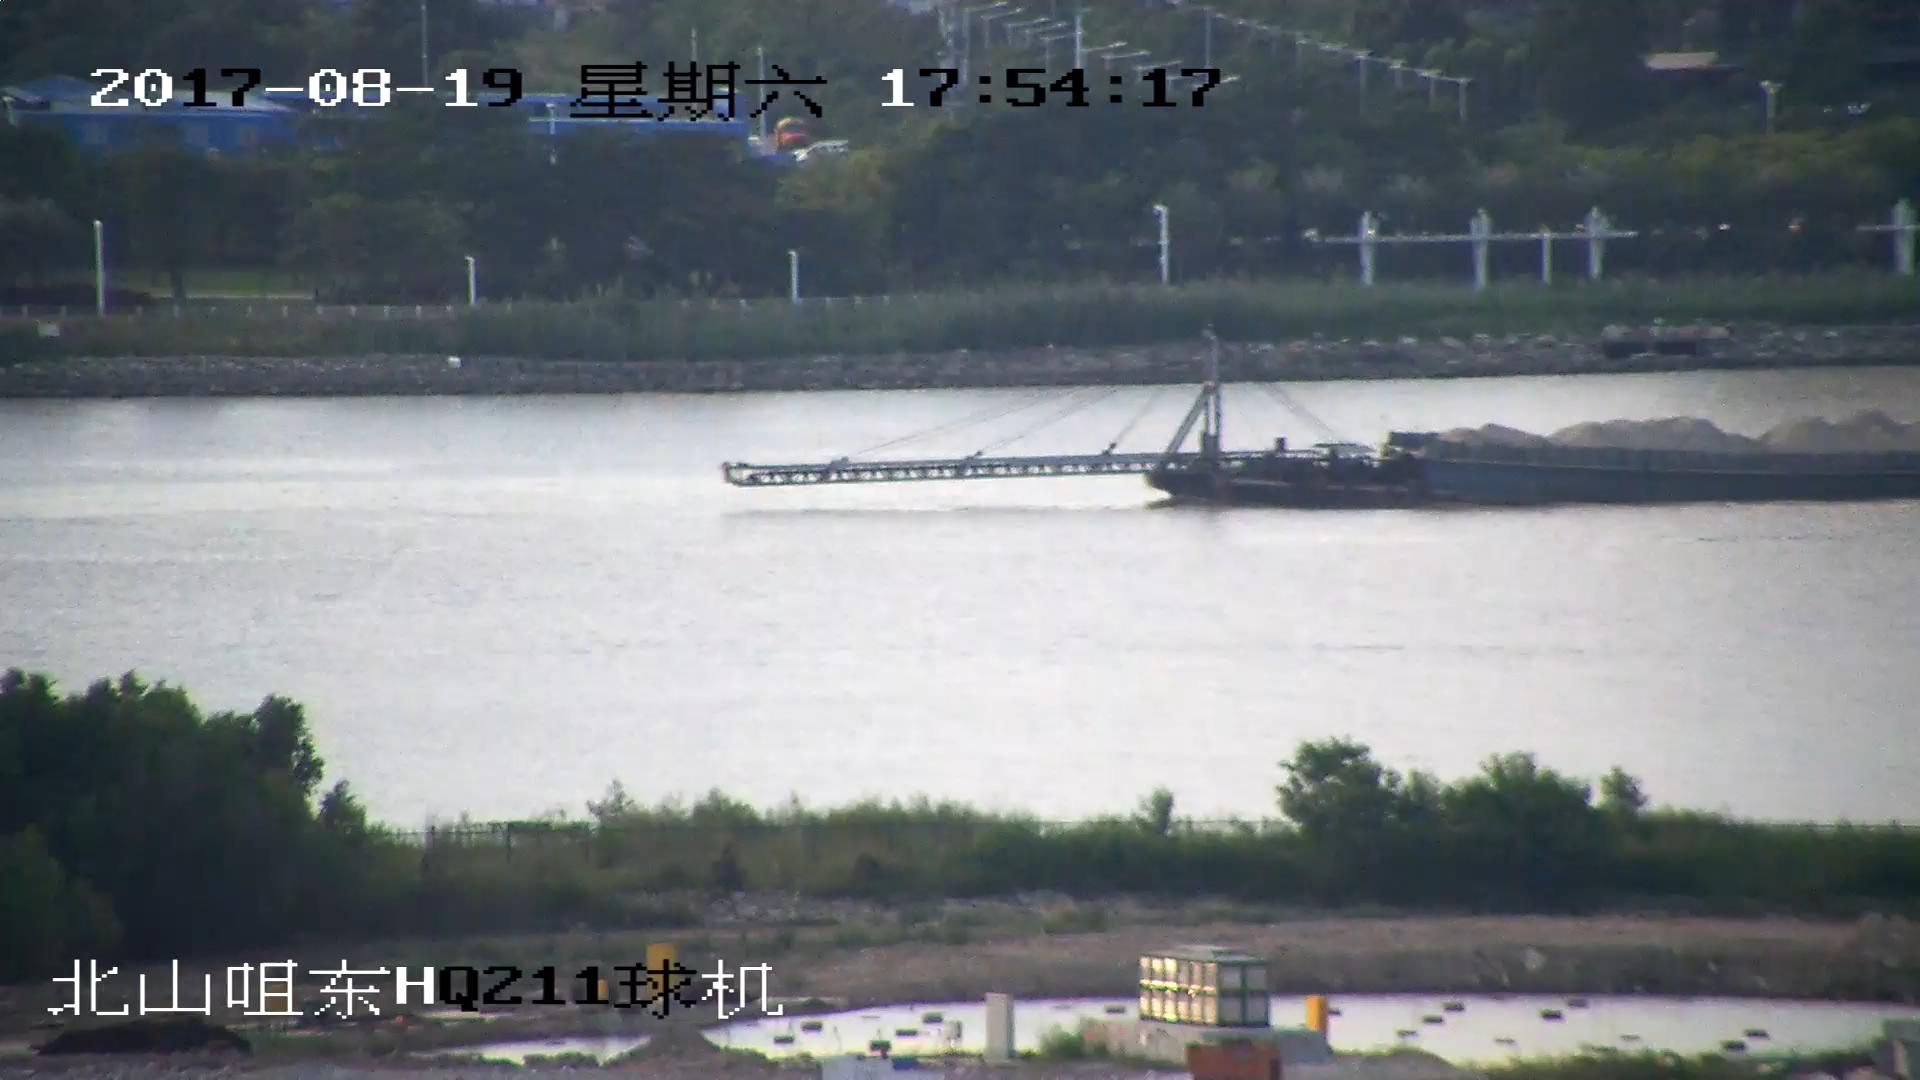ore carrier: (721, 339, 1920, 510)
